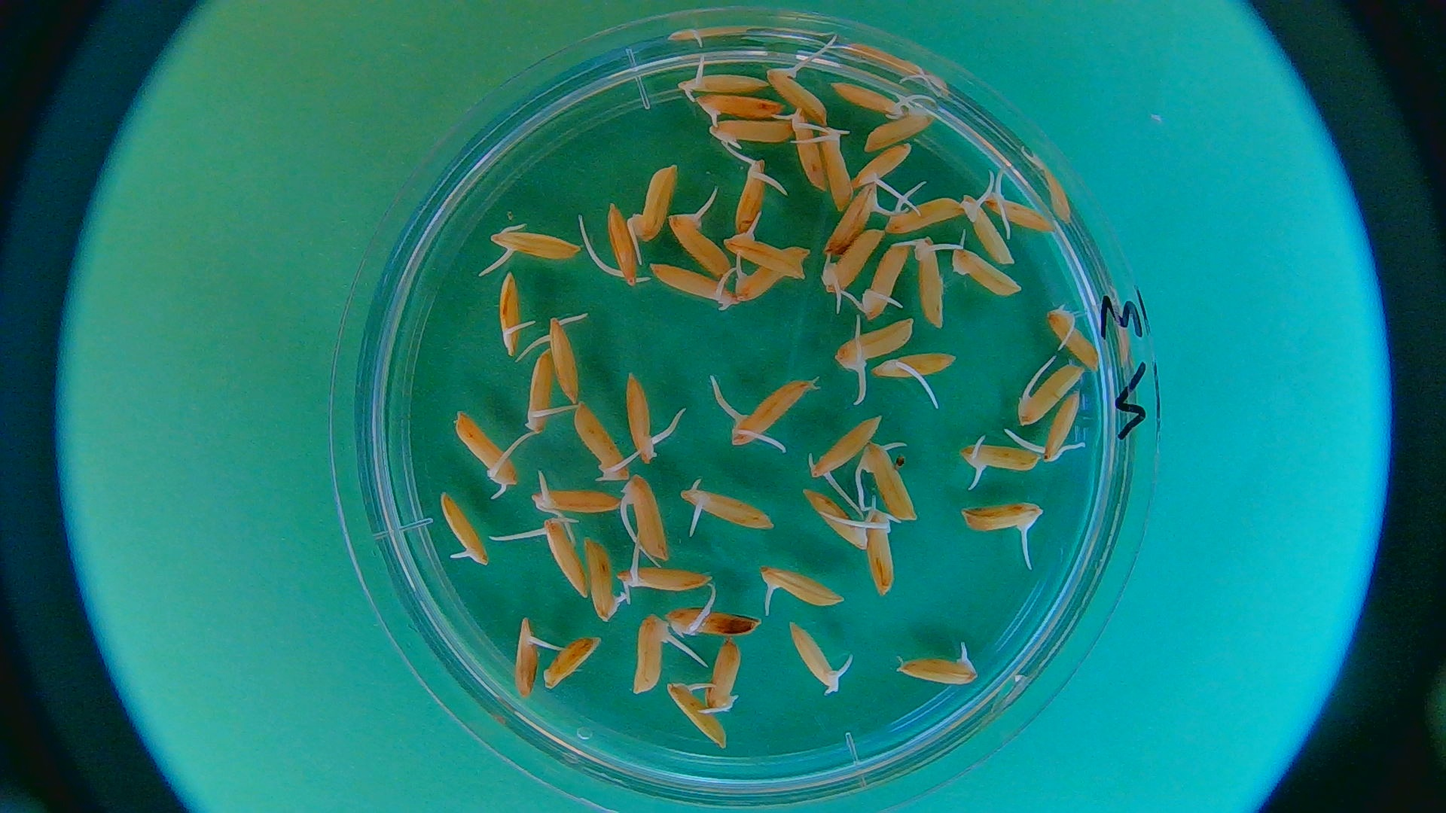no: (544, 635, 601, 689)
yes: (725, 378, 810, 447), (453, 410, 514, 493), (859, 440, 919, 520), (618, 476, 672, 561), (1017, 362, 1087, 427), (808, 416, 877, 481), (818, 228, 883, 294), (787, 620, 844, 695), (575, 410, 633, 483), (437, 489, 490, 568), (685, 486, 773, 533), (760, 564, 844, 613), (727, 226, 809, 276), (728, 247, 805, 300), (801, 488, 868, 548), (541, 513, 590, 595), (667, 681, 725, 748), (963, 193, 1014, 268), (861, 241, 908, 322), (825, 188, 884, 252), (542, 311, 582, 403), (834, 321, 912, 368), (1046, 306, 1101, 370), (1037, 392, 1087, 461), (671, 211, 729, 270), (768, 64, 829, 120), (585, 538, 624, 625), (914, 231, 950, 325), (951, 246, 1018, 295), (884, 195, 963, 236), (650, 263, 734, 301), (664, 604, 757, 638), (633, 611, 670, 695), (524, 348, 560, 434), (636, 166, 676, 242), (485, 229, 583, 260), (530, 485, 619, 519), (864, 106, 936, 148), (849, 145, 916, 190), (679, 67, 767, 101), (963, 436, 1041, 474), (819, 125, 853, 212), (731, 160, 773, 230), (701, 635, 741, 708), (606, 201, 640, 285), (621, 560, 710, 592), (862, 508, 895, 593), (624, 376, 657, 461), (962, 502, 1042, 537), (792, 120, 831, 190), (895, 654, 977, 687), (834, 82, 907, 119), (512, 617, 545, 696), (871, 352, 955, 383), (497, 273, 526, 361), (988, 196, 1053, 233), (707, 118, 792, 146), (698, 93, 778, 122)
